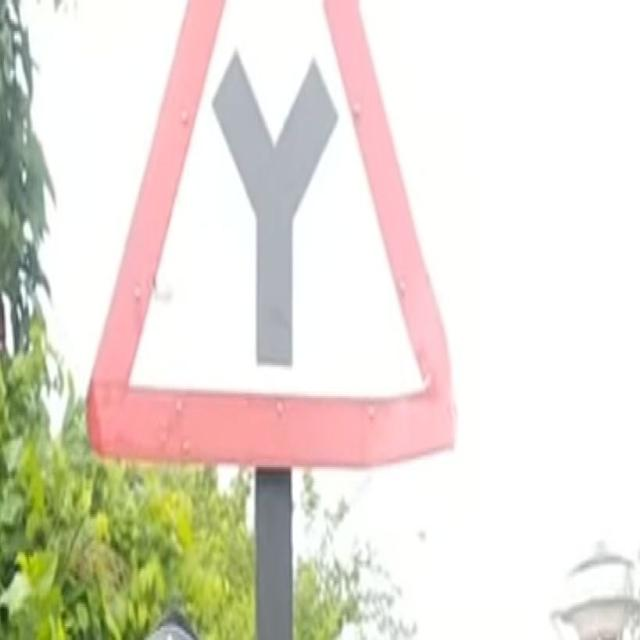yjunction: (90, 33, 461, 480)
